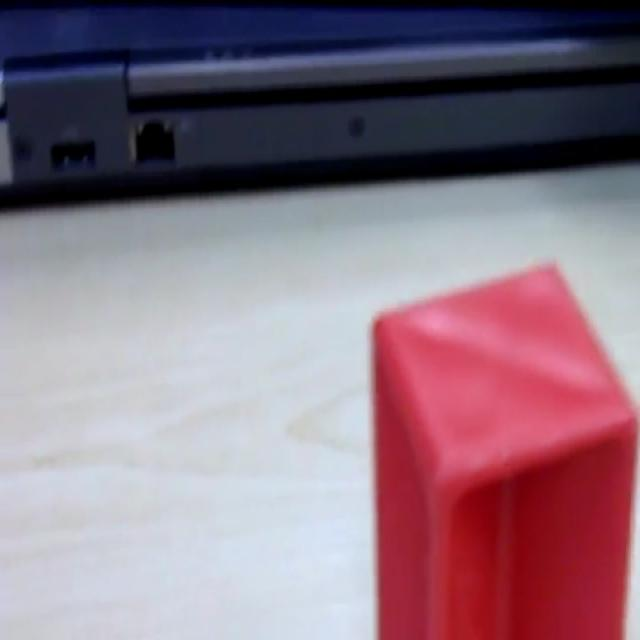red_block: (369, 256, 638, 636)
